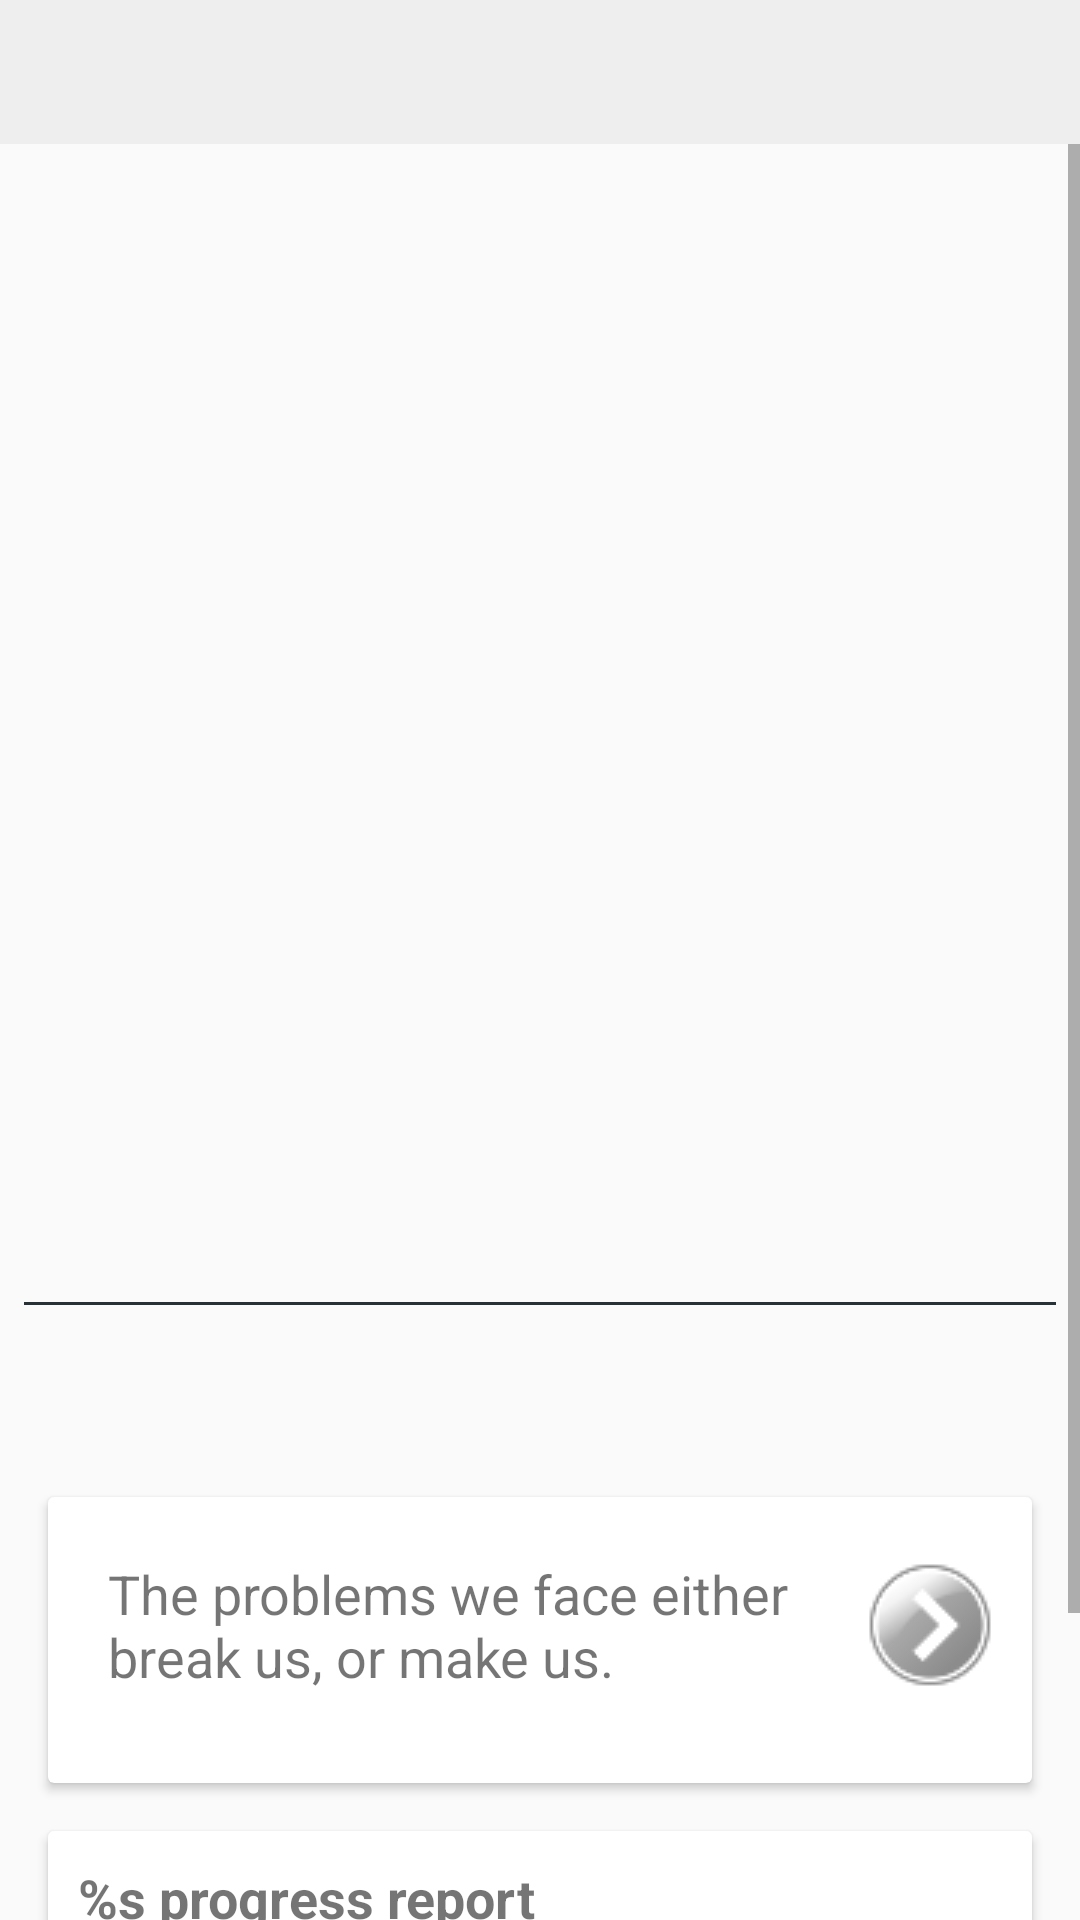

Icons on this 1080x1920 Android screen, each with its box as (left=x1, top=y1, right=x2, bottom=y2):
Next motivation: (left=869, top=1564, right=991, bottom=1686)
